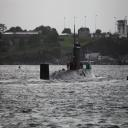submarine: (41, 26, 97, 82)
